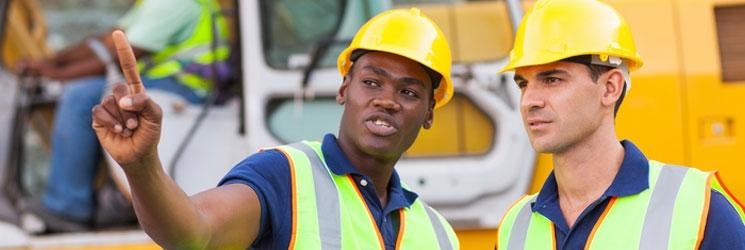helmet: (335, 6, 457, 107), (497, 0, 643, 84)
wear: (237, 152, 461, 250), (492, 173, 745, 250)
